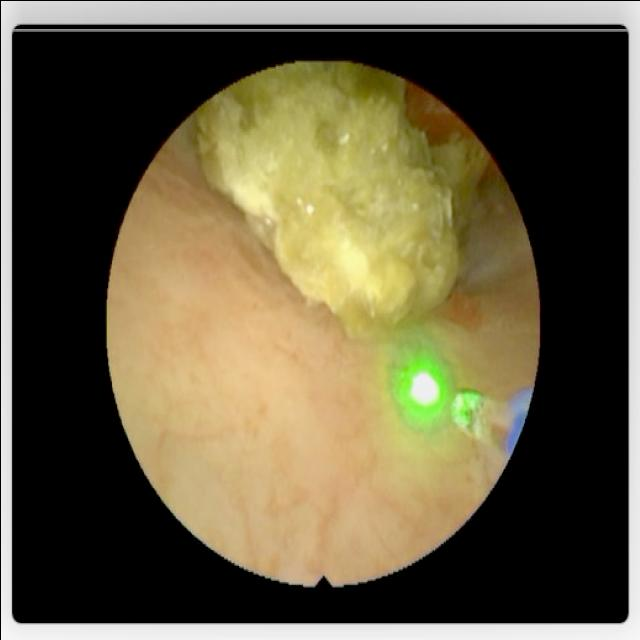stone: (198, 73, 467, 329)
